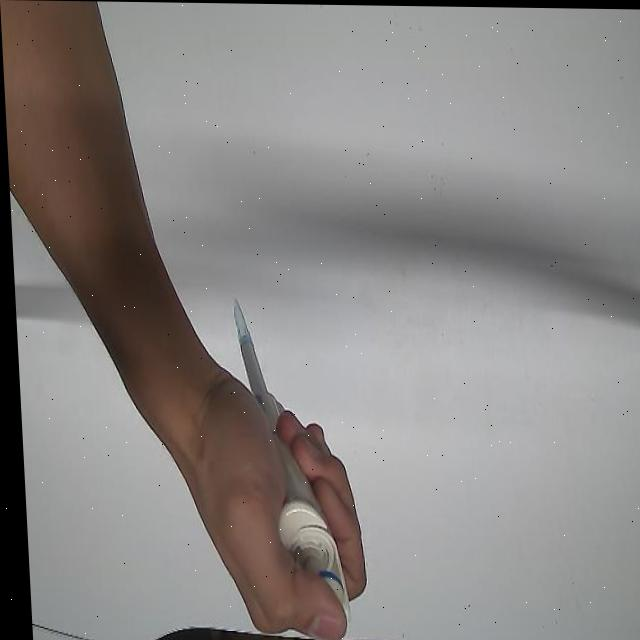Micropipette Tip 1000 uL: (225, 288, 254, 349)
Single Channel Pipettor: (232, 337, 347, 635)
